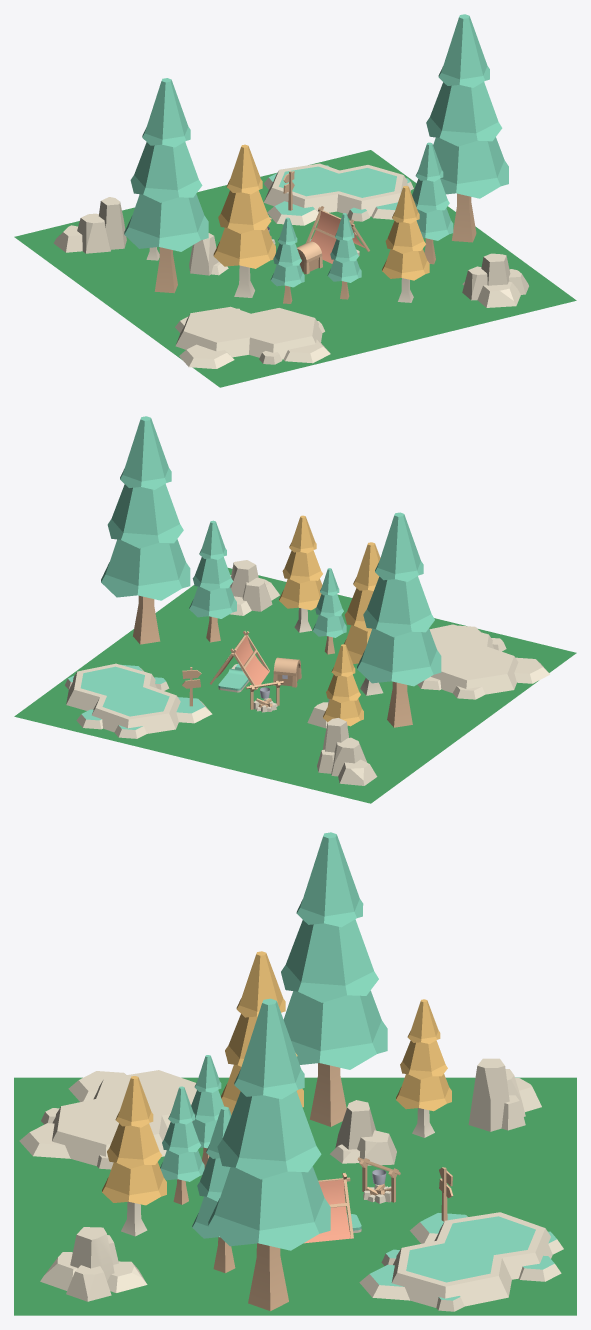
Rendered from campfire.glb.
The picture shows the model from 3 angles, top to bottom: view 1: azimuth 30°, elevation 25°; view 2: azimuth 150°, elevation 25°; view 3: azimuth 270°, elevation 25°; orthographic projection. The views are drawn at different scales.
Visible parts, largest first — view 1: grass, tree.004, tree.003, rockFlat, rockFlatGrass, treeFall, treeFall.001, tree, rockC, rockB, tree.001, tree.002 (+2 smaller); view 2: grass, tree.004, tree.003, rockFlatGrass, rockFlat, tree, treeFall.001, treeFall, rockC, treeFall.002, rockB, tree.001 (+2 smaller); view 3: grass, tree.004, tree.003, rockFlatGrass, rockFlat, treeFall.001, rockB, treeFall.002, rockC, treeFall, tree.001, tree (+3 smaller).
Boxes of the visible parts, x1=… form: grass: x1=14, y1=150, x2=576, y2=387; tree.004: x1=426, y1=14, x2=508, y2=242; tree.003: x1=124, y1=78, x2=208, y2=293; rockFlat: x1=175, y1=306, x2=330, y2=368; rockFlatGrass: x1=264, y1=163, x2=413, y2=225; treeFall: x1=213, y1=144, x2=275, y2=297; treeFall.001: x1=382, y1=185, x2=429, y2=302; tree: x1=412, y1=142, x2=453, y2=264; rockC: x1=53, y1=197, x2=126, y2=253; rockB: x1=462, y1=253, x2=528, y2=307; tree.001: x1=327, y1=213, x2=361, y2=299; tree.002: x1=270, y1=217, x2=304, y2=303; grass: x1=14, y1=568, x2=576, y2=803; tree.004: x1=101, y1=416, x2=190, y2=644; tree.003: x1=357, y1=512, x2=441, y2=727; rockFlatGrass: x1=65, y1=663, x2=212, y2=738; rockFlat: x1=417, y1=624, x2=549, y2=699; tree: x1=189, y1=520, x2=236, y2=642; treeFall.001: x1=279, y1=515, x2=322, y2=632; treeFall: x1=344, y1=542, x2=383, y2=695; rockC: x1=317, y1=718, x2=377, y2=785; treeFall.002: x1=323, y1=644, x2=363, y2=726; rockB: x1=230, y1=560, x2=279, y2=615; tree.001: x1=312, y1=568, x2=346, y2=654; grass: x1=14, y1=1077, x2=576, y2=1315; tree.004: x1=208, y1=998, x2=330, y2=1310; tree.003: x1=281, y1=832, x2=387, y2=1126; rockFlatGrass: x1=359, y1=1212, x2=563, y2=1311; rockFlat: x1=19, y1=1070, x2=196, y2=1169; treeFall.001: x1=102, y1=1076, x2=166, y2=1236; rockB: x1=40, y1=1227, x2=147, y2=1301; treeFall.002: x1=396, y1=999, x2=451, y2=1137; rockC: x1=468, y1=1058, x2=541, y2=1131; treeFall: x1=221, y1=951, x2=303, y2=1114; tree.001: x1=160, y1=1086, x2=204, y2=1204; tree: x1=192, y1=1106, x2=235, y2=1273.
Size of the model in its own units: 19.13 by 10.58 by 17.94.
